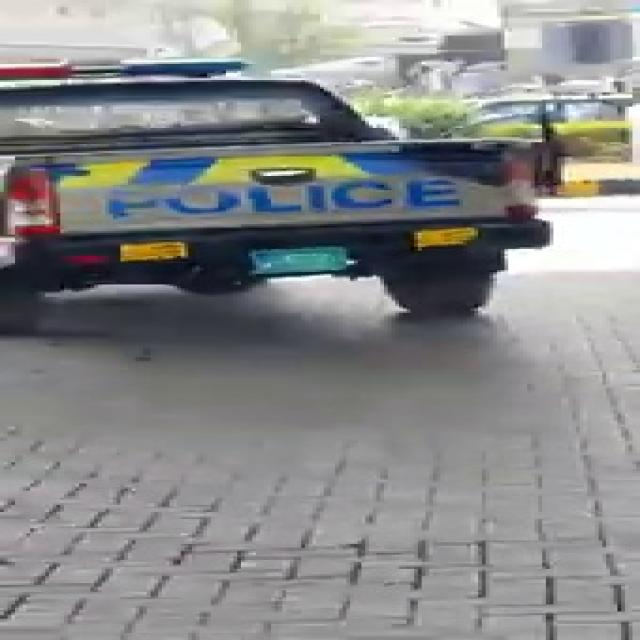police: (10, 0, 597, 331)
